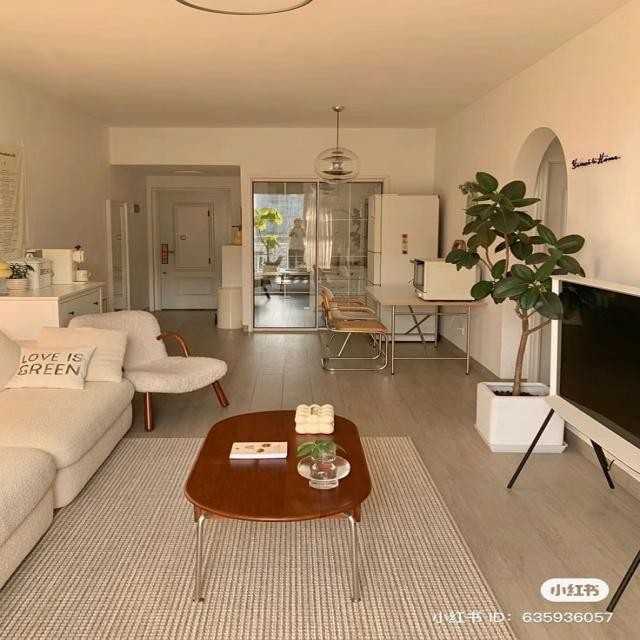door: (151, 187, 230, 311)
obstacle: (183, 409, 371, 603), (67, 309, 230, 431), (363, 283, 487, 375), (370, 190, 440, 338), (316, 282, 381, 368)
